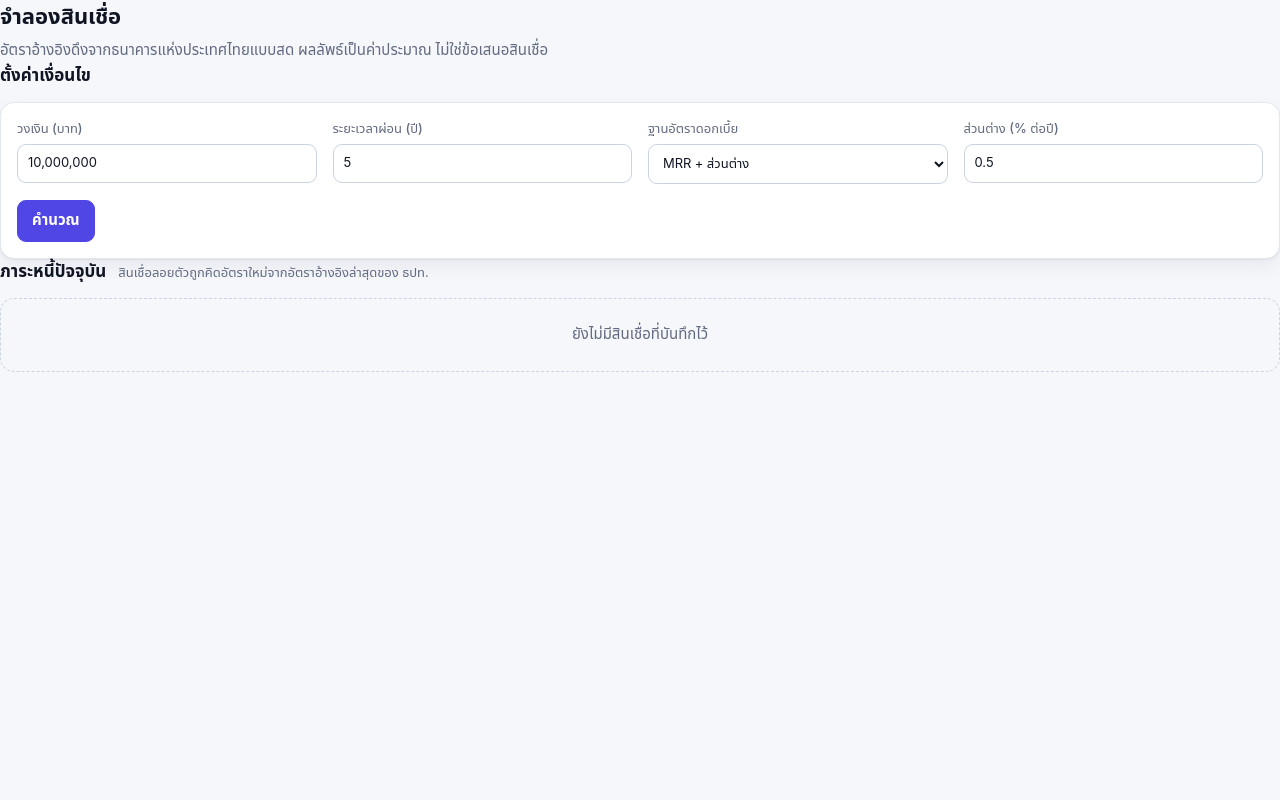
Scenario: ตารางผ่อนชำระ › งวดสุดท้ายอยู่ในตารางจริง
Click the button "คำนวณ": (56, 221) x1=17 y1=200 x2=95 y2=242
(page scrolled)
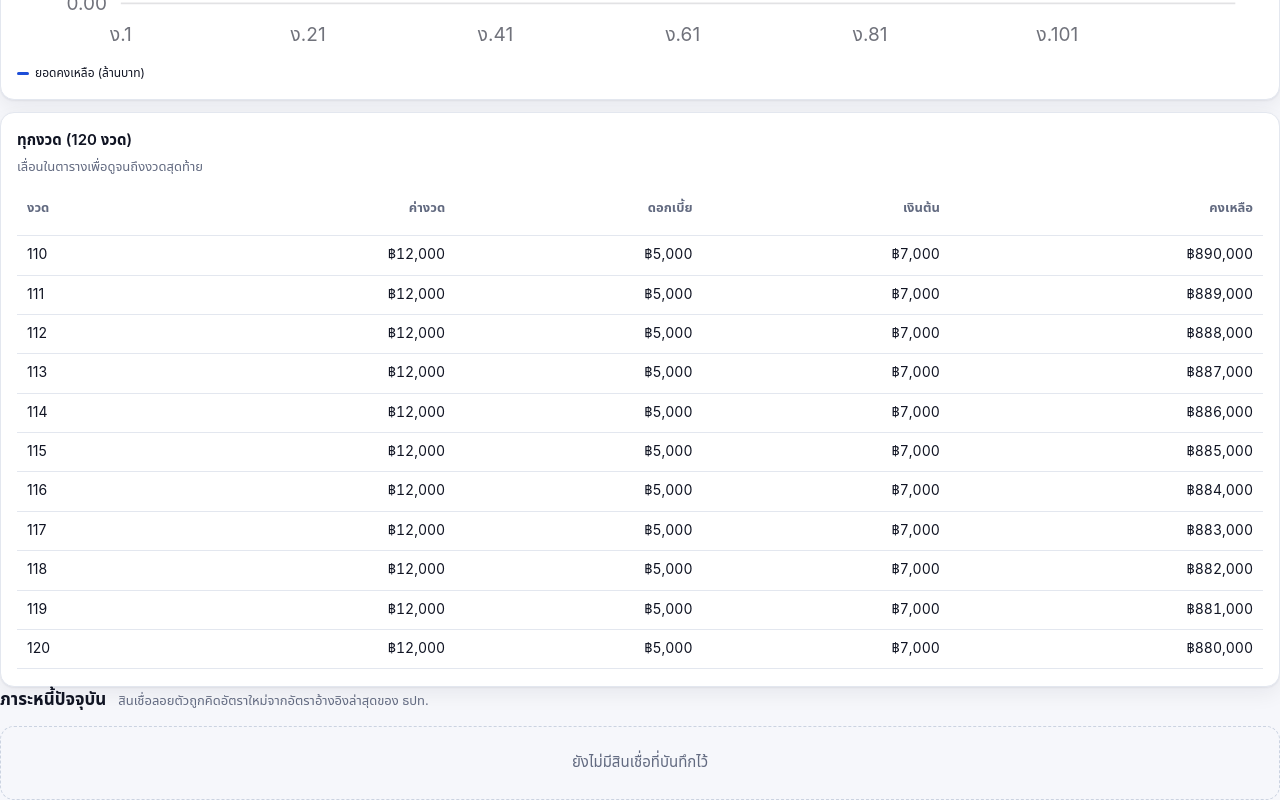
Expected: the heading "ทุกงวด (120 งวด)" is shown, x1=17 y1=129 x2=132 y2=152
Expected: the text "120" is shown, x1=17 y1=630 x2=175 y2=669
